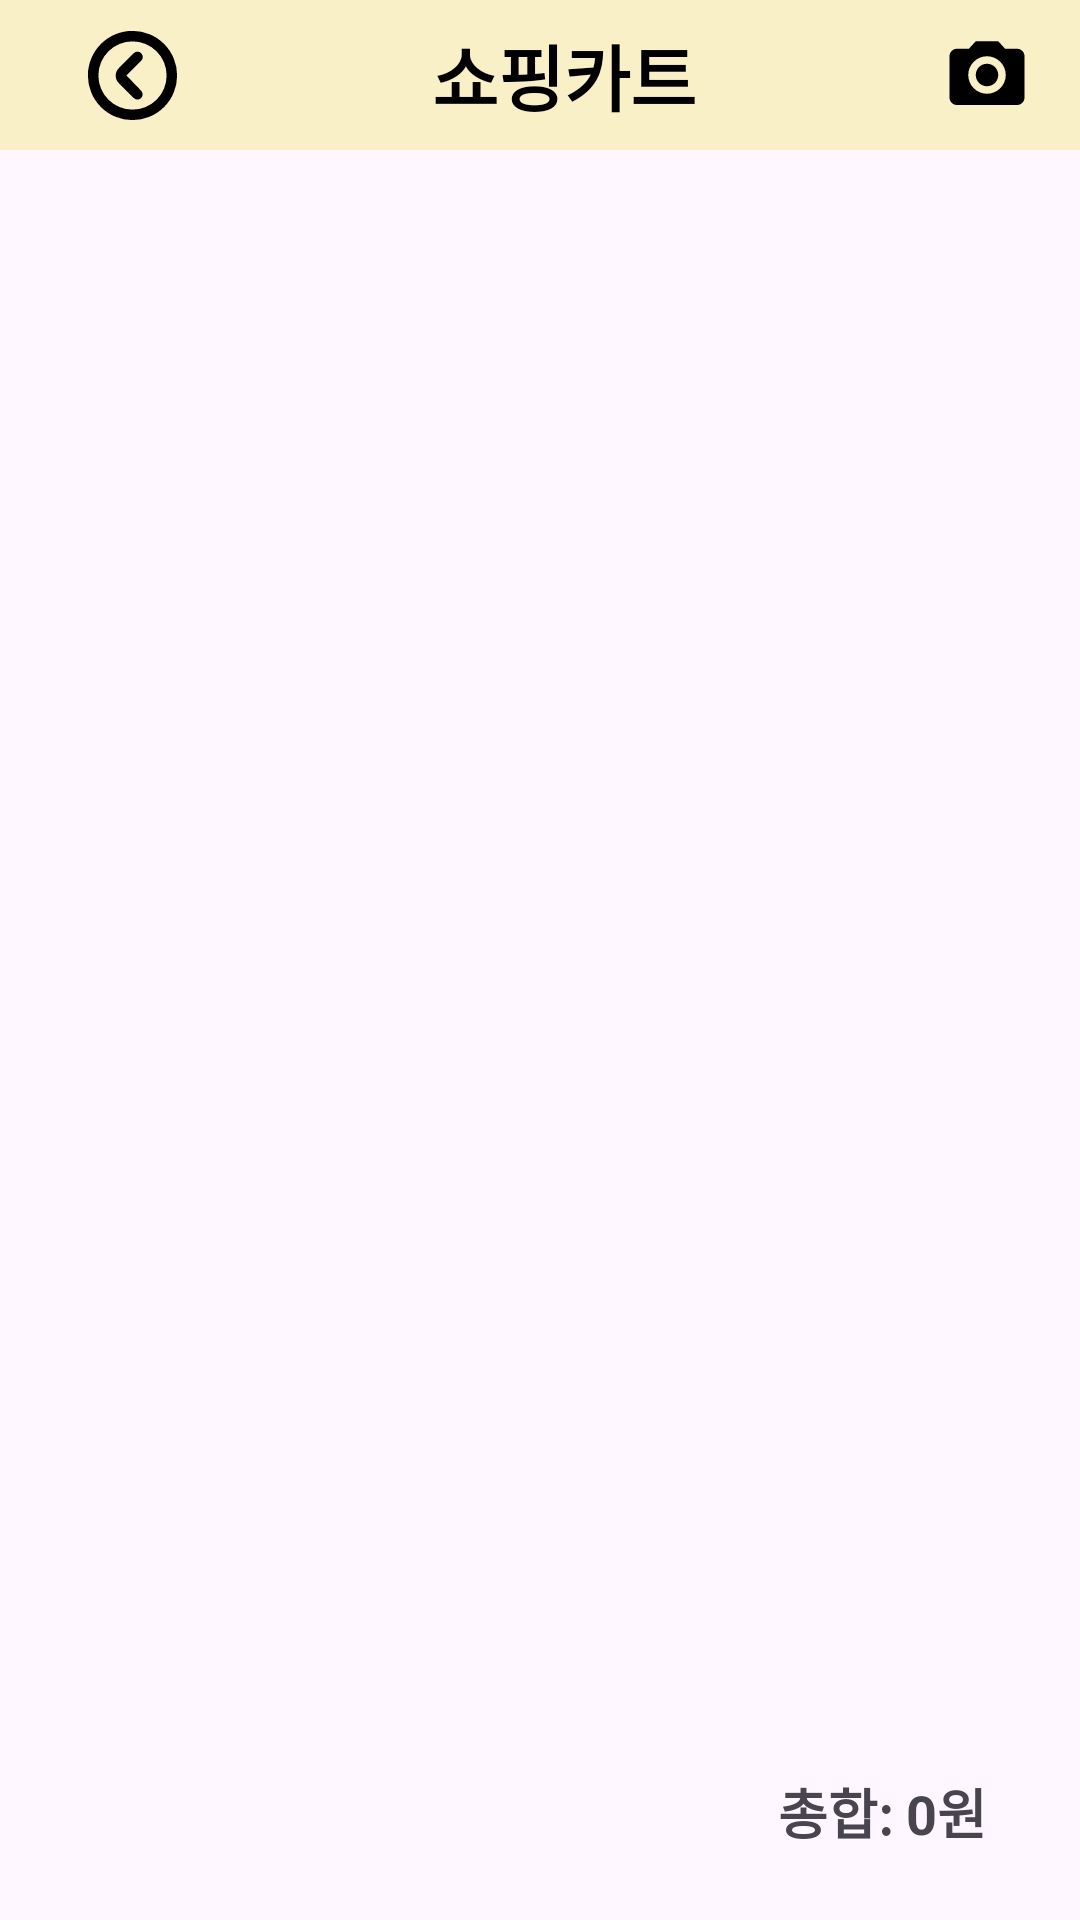

Where icons sit on this 1080*1920 app screen, as (left=x1, top=y1, right=x2, bottom=y2):
카메라: (left=949, top=41, right=1025, bottom=105)
